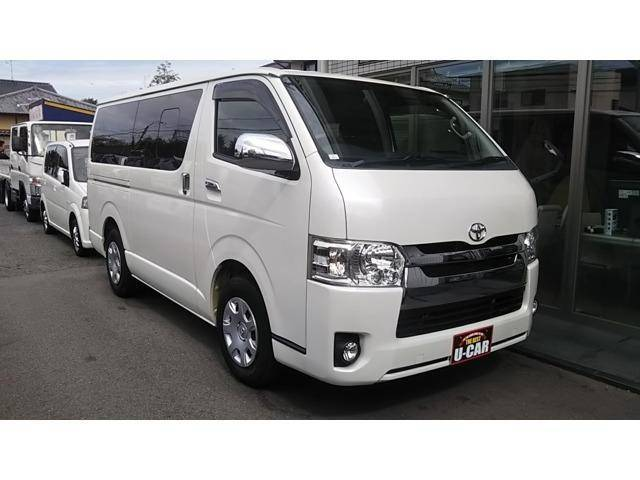van: (85, 66, 543, 392)
